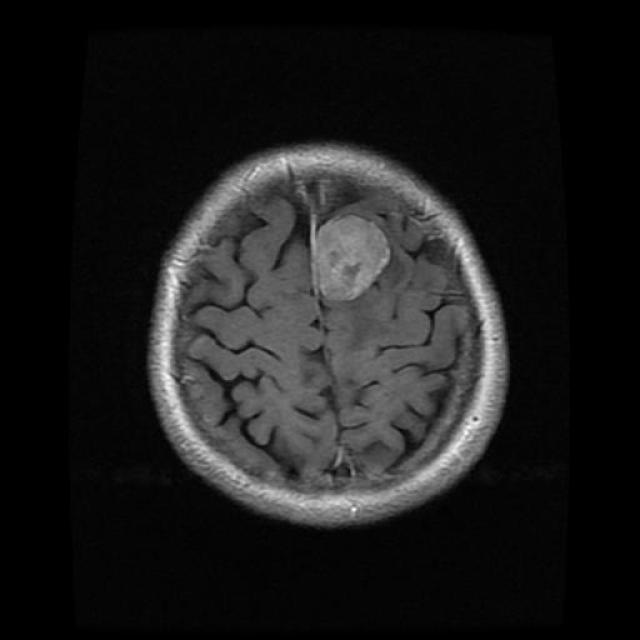Brain-Tumor: (310, 208, 396, 306)
